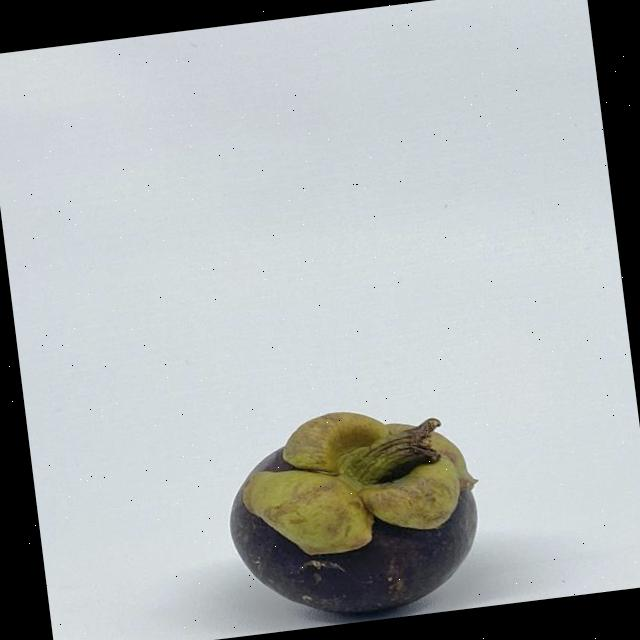mangosteen: (204, 368, 492, 636)
